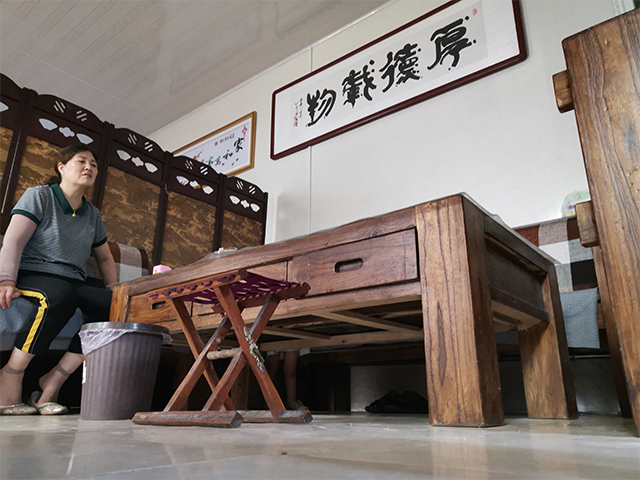stool: (129, 264, 315, 429)
table: (102, 190, 582, 429)
trashcan: (74, 320, 175, 423)
